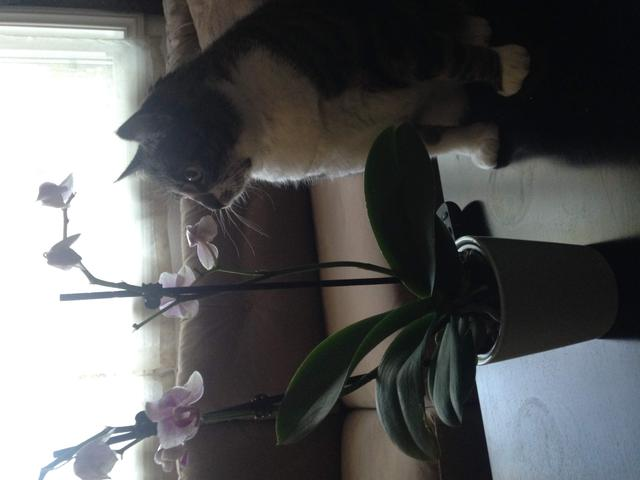playdoh: (113, 2, 528, 215)
